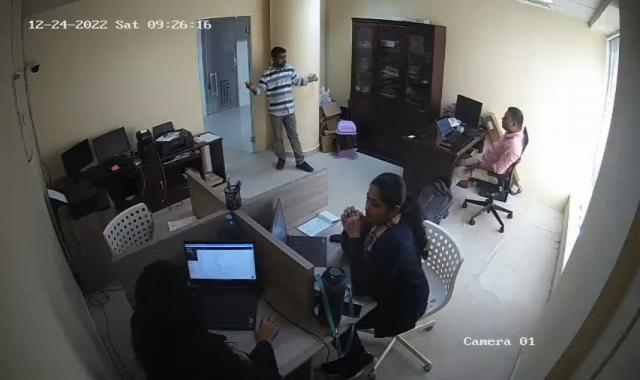no_hairnet: (135, 260, 194, 329), (363, 170, 404, 225), (498, 106, 524, 135), (268, 44, 290, 68)
